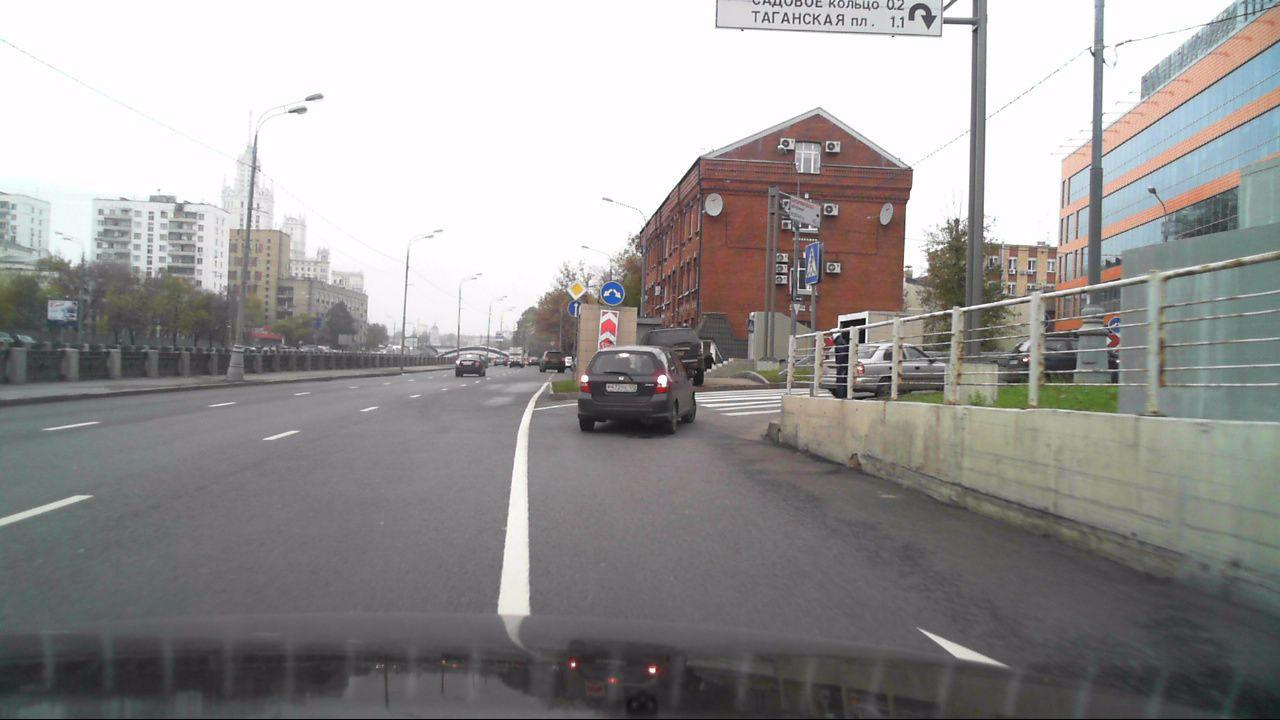obstructed_road_sign: (567, 300, 583, 318)
road_sign: (599, 309, 618, 349), (805, 240, 820, 285), (600, 281, 626, 306), (565, 278, 589, 301)
